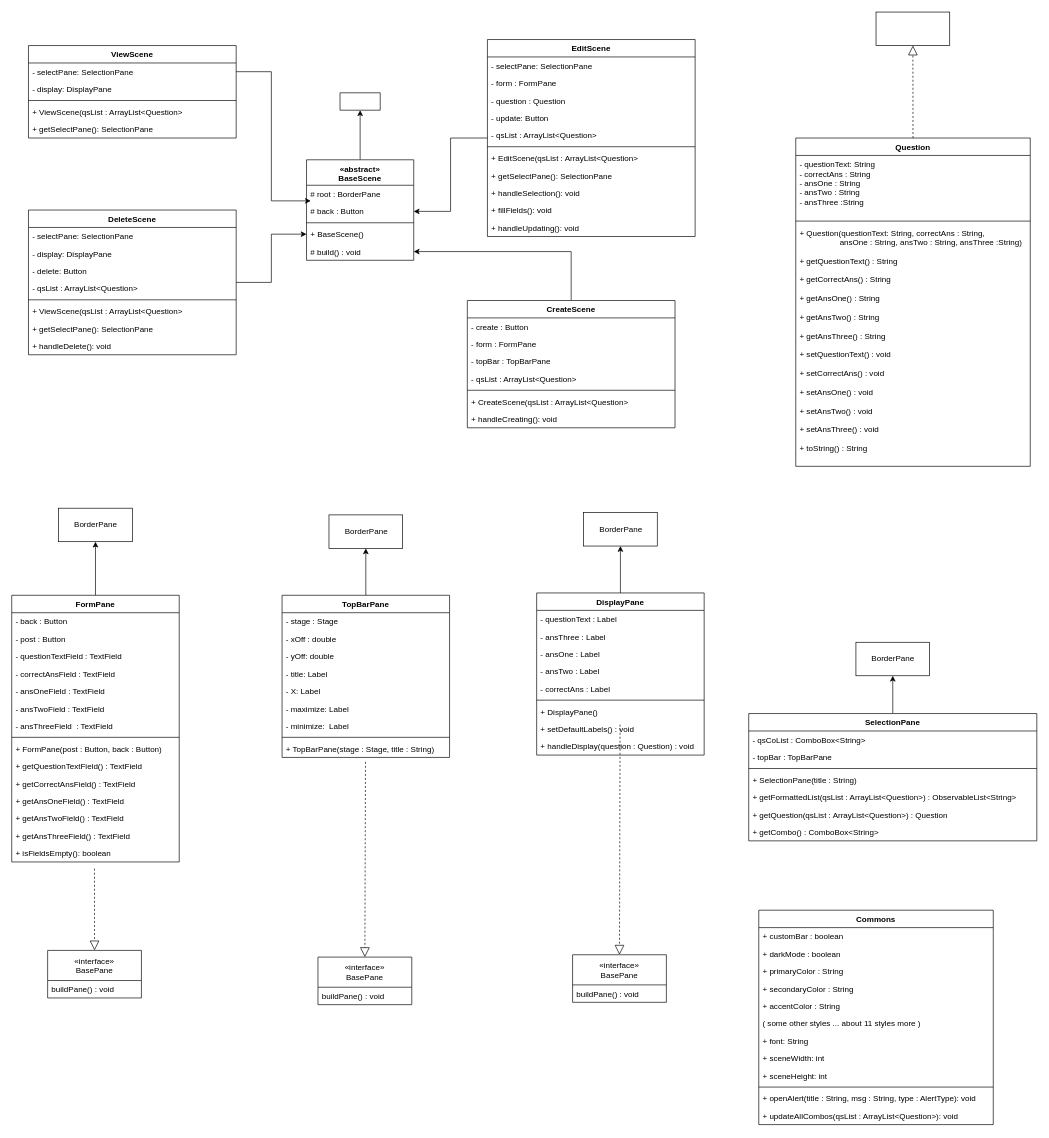
The diagram is 1049 pixels wide and 1138 high, and some of its shapes have lost their labels. The centre of each missing label's shape, as x and y in pixels:
Scene: [359,101]
«interface» Serializable: [912,28]
